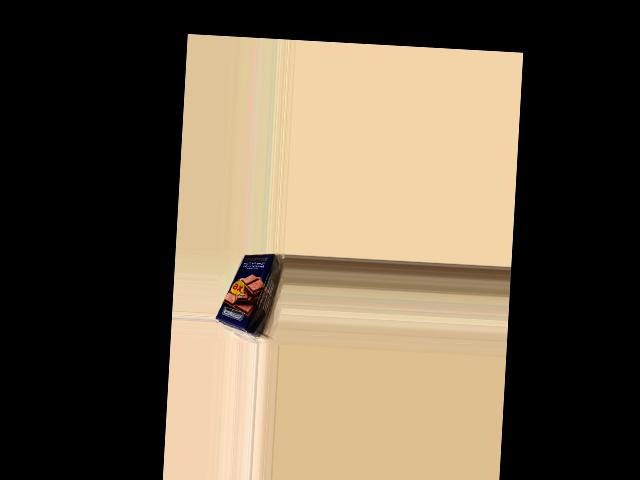chocolate: (214, 250, 279, 332)
